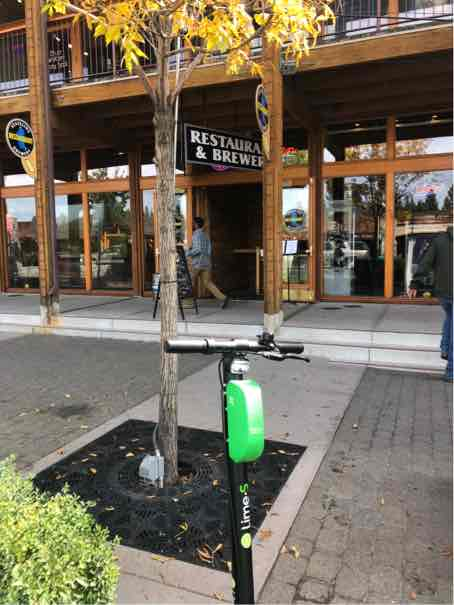scooter: (118, 312, 310, 601)
